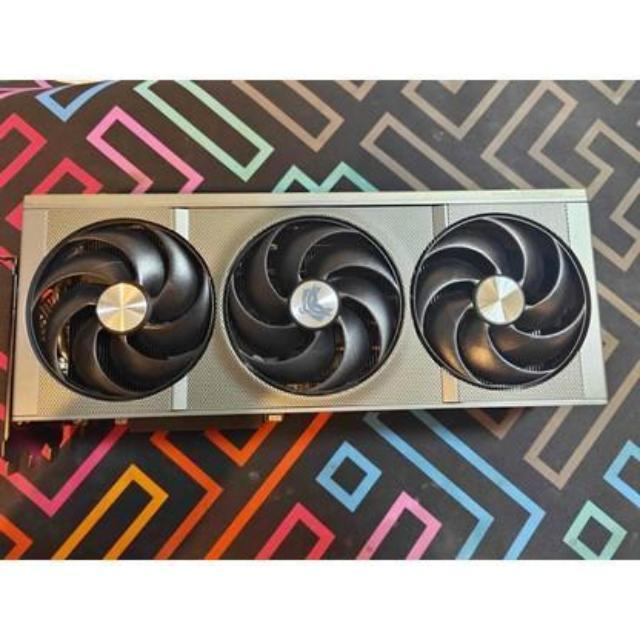GPU: (10, 192, 608, 423)
